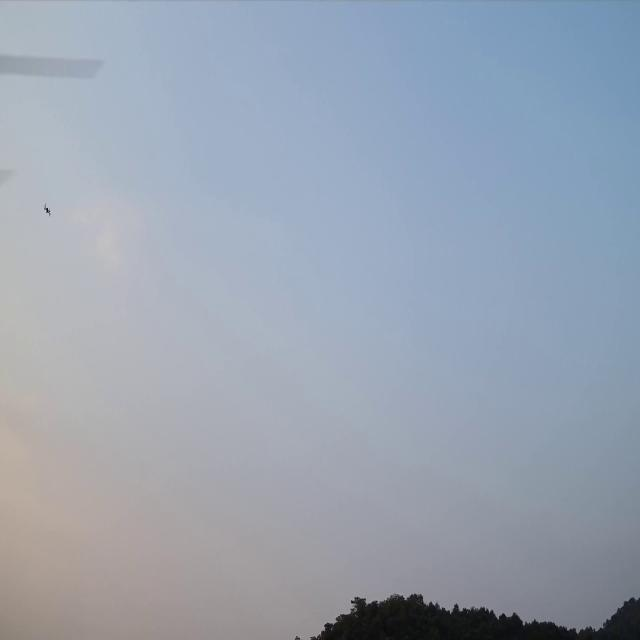UAV: (42, 203, 51, 216)
